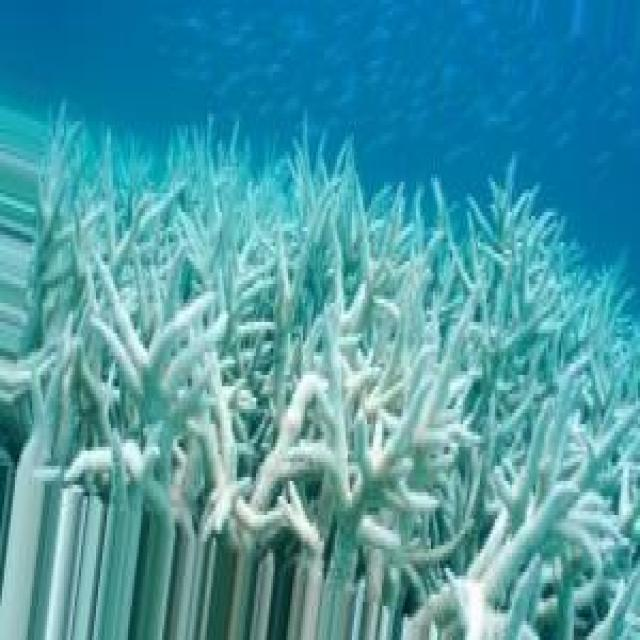bleached coral: (29, 120, 640, 638)
